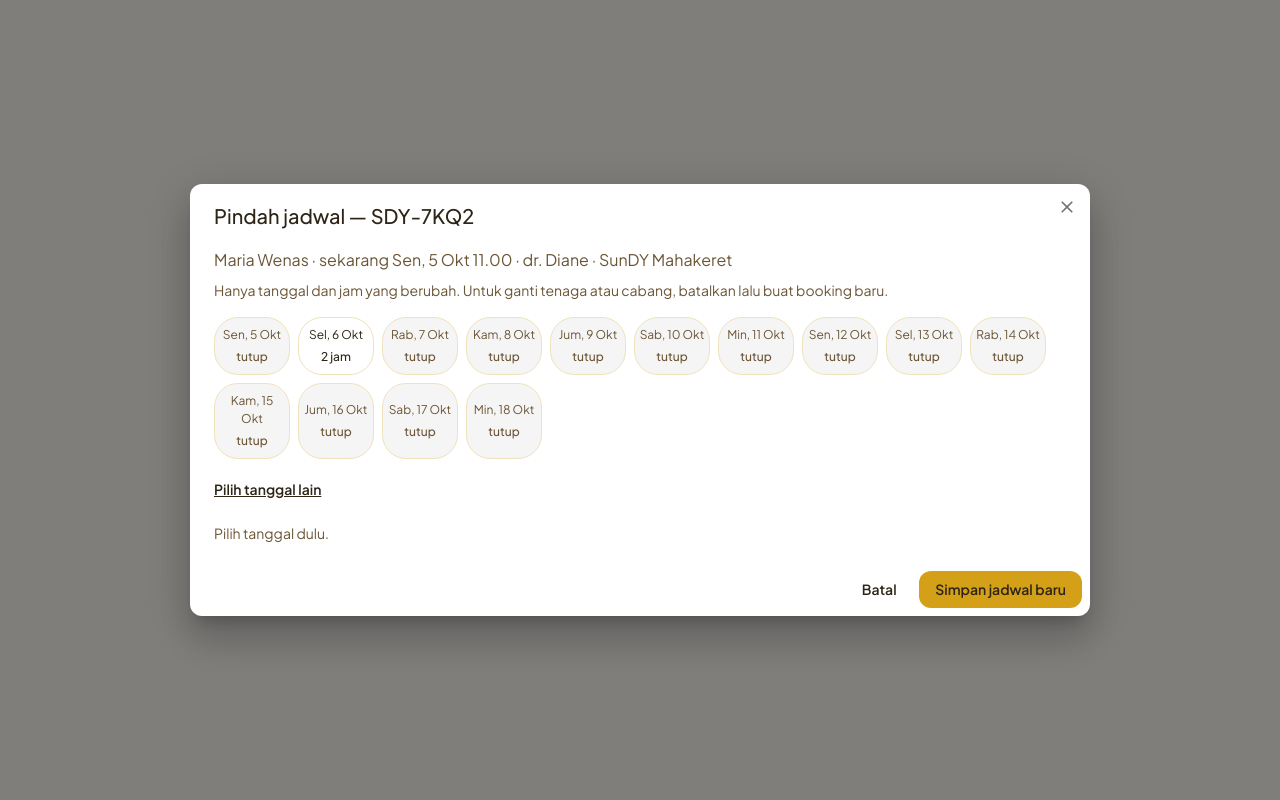
Test: RescheduleDialog › booking yang belum transfer: tombol instruksi transfer
The width and height of the screenshot is (1280, 800).
Click the button with aria-label "Selasa, 6 Oktober 2026 — 2 jam kosong": [336, 346] box [298,316,374,374]
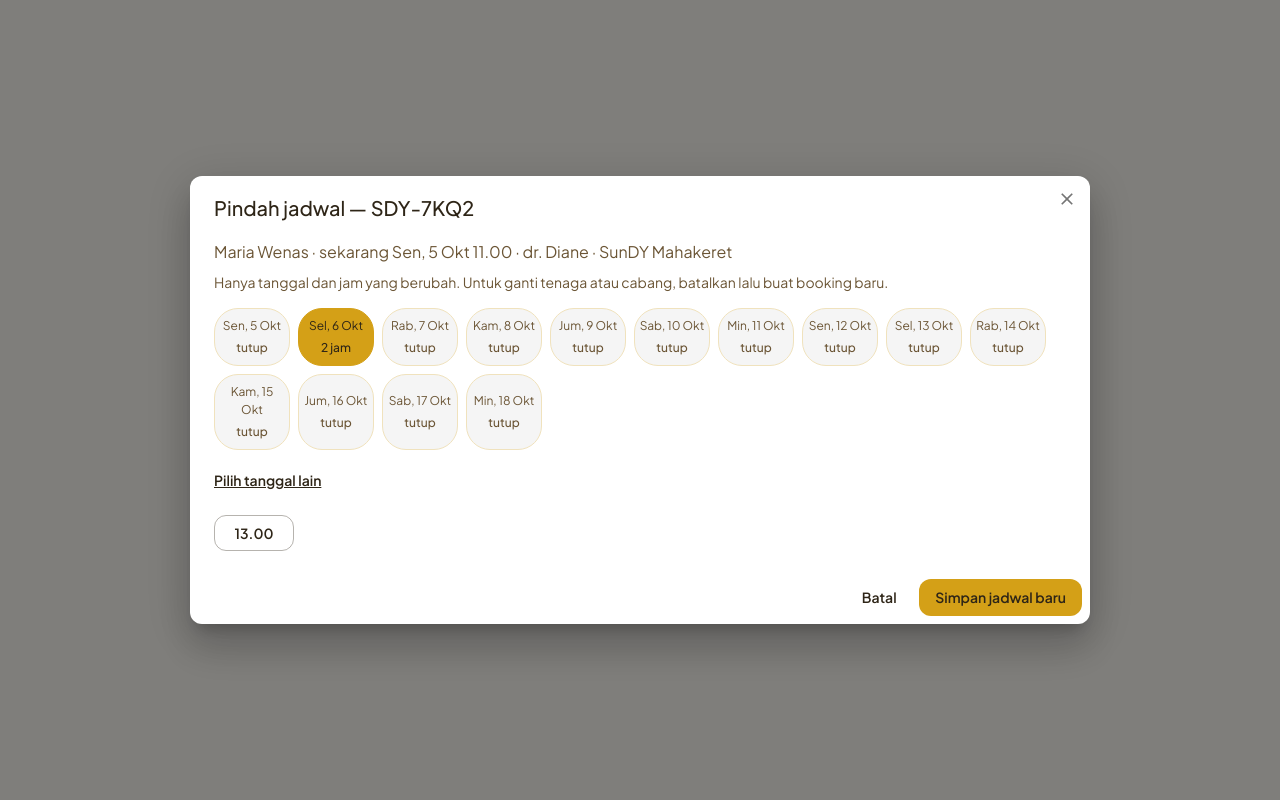
Click the button "13.00": [254, 533] box [214,515,294,551]
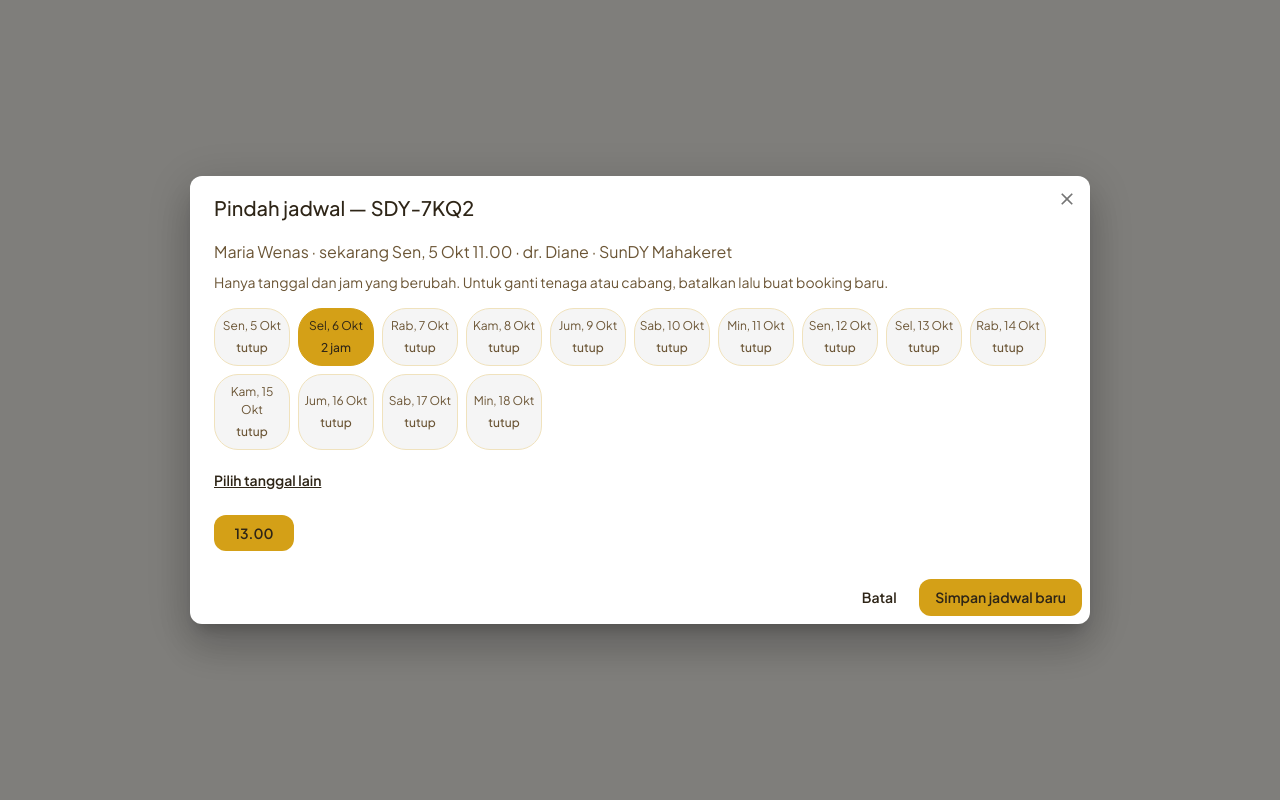
Click the button "Simpan jadwal baru": [1001, 598] box [919,579,1082,616]
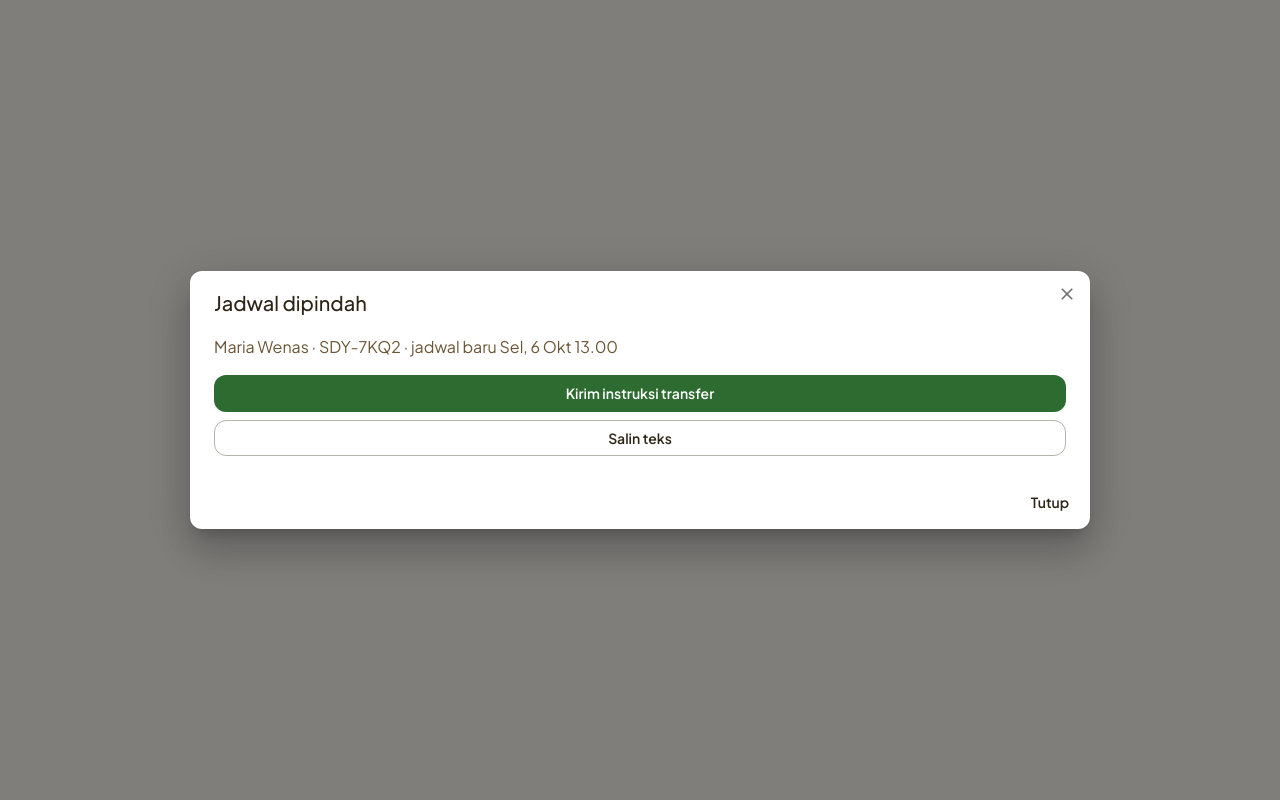
Result: the link "Kirim instruksi transfer" is shown at [214,375,1066,412]
